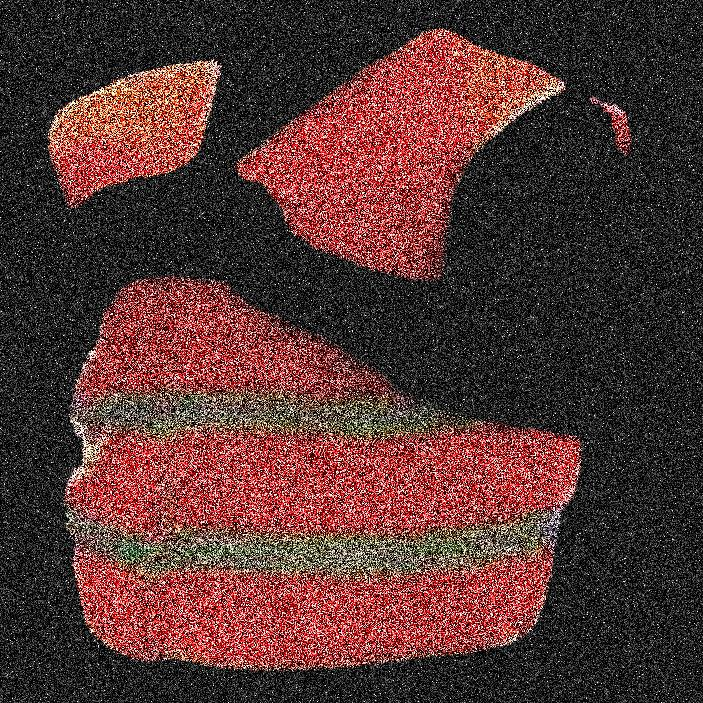Colete: (83, 0, 487, 702)
